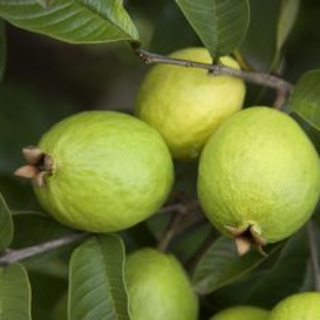oi: (195, 102, 317, 254), (32, 109, 175, 238)
